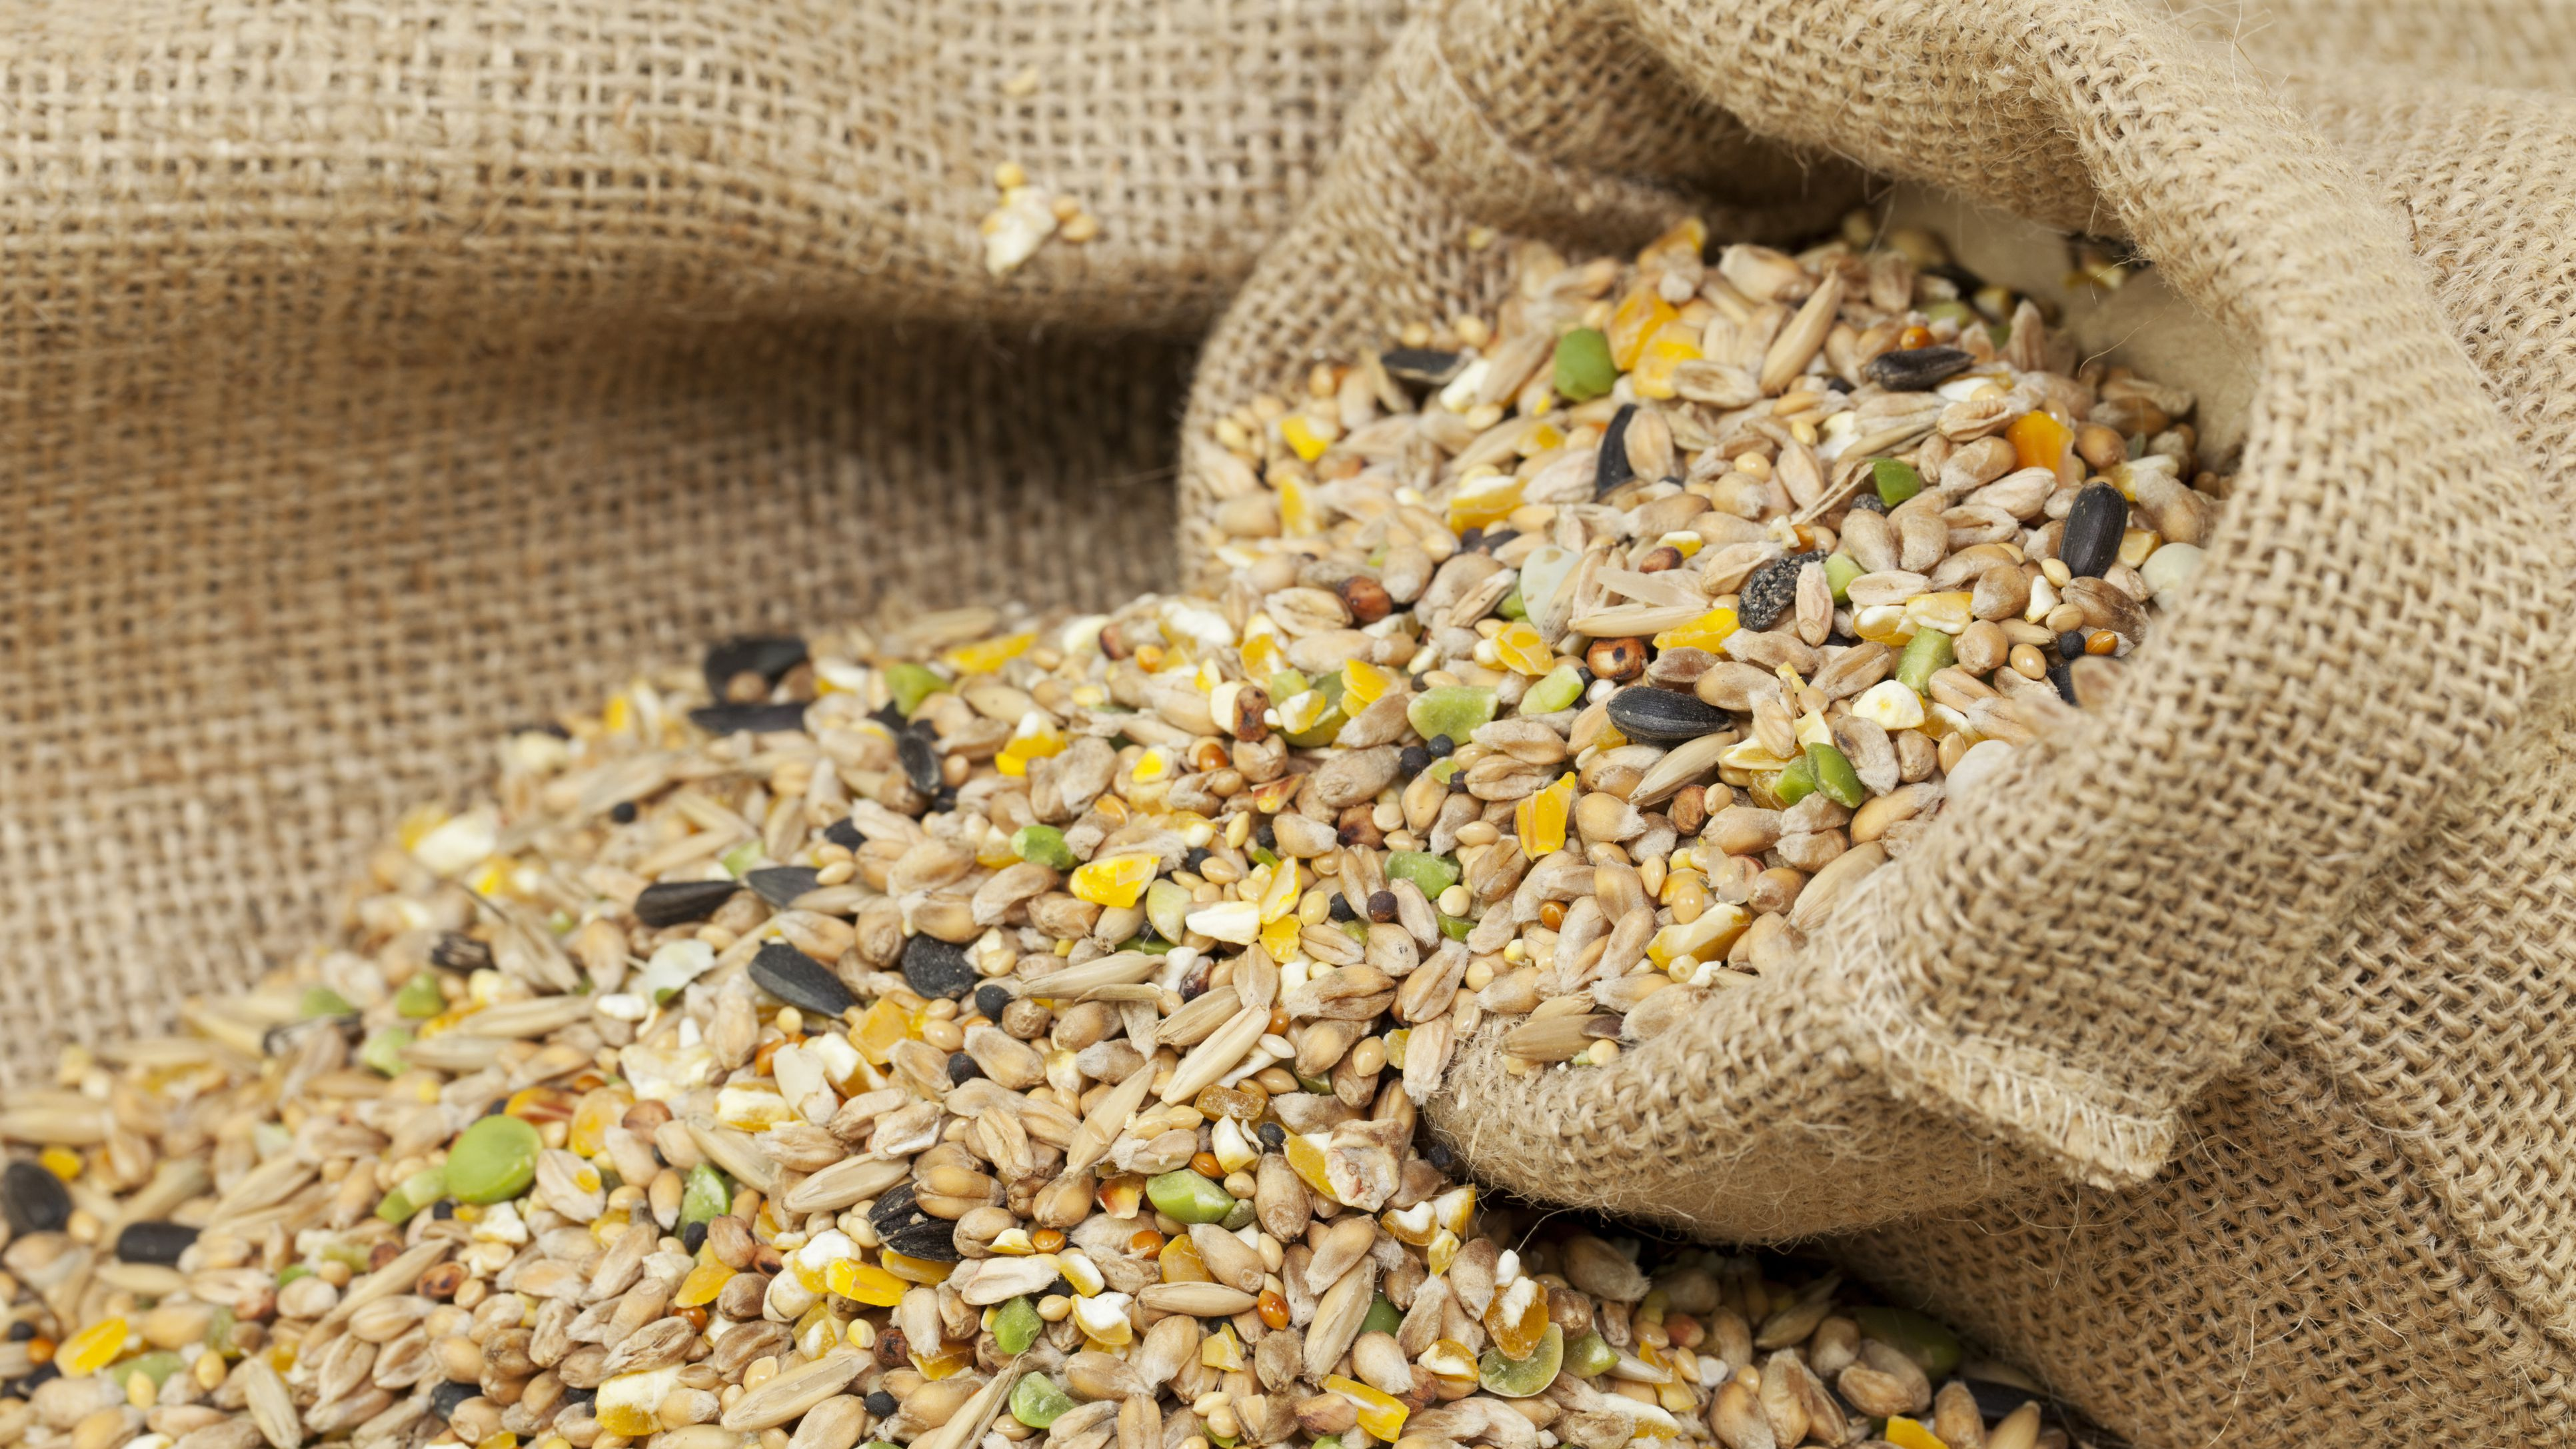seed: (0, 593, 1983, 1449), (1157, 180, 2272, 1111)
